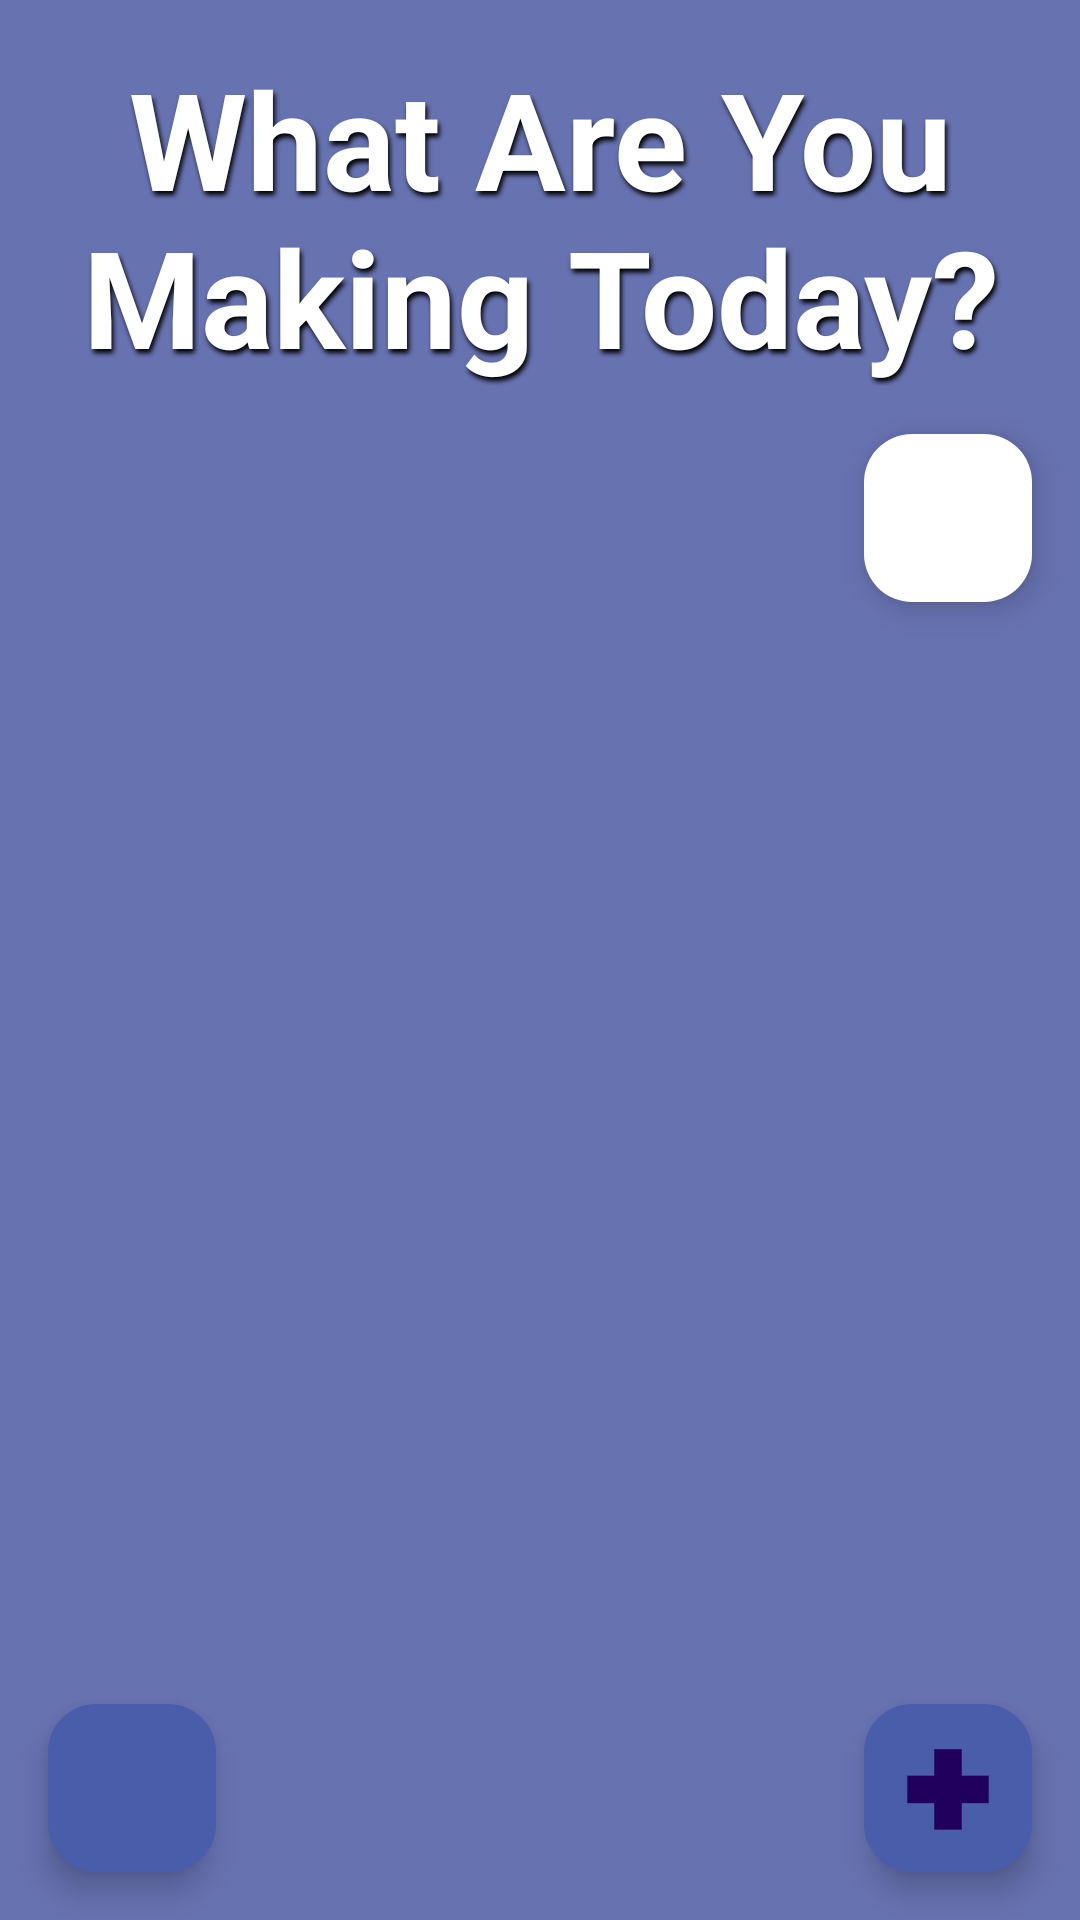

Named icons in this screenshot (1080w x 1920h) and their centers, point (x, y):
Add Recipe: point (948, 1788)
